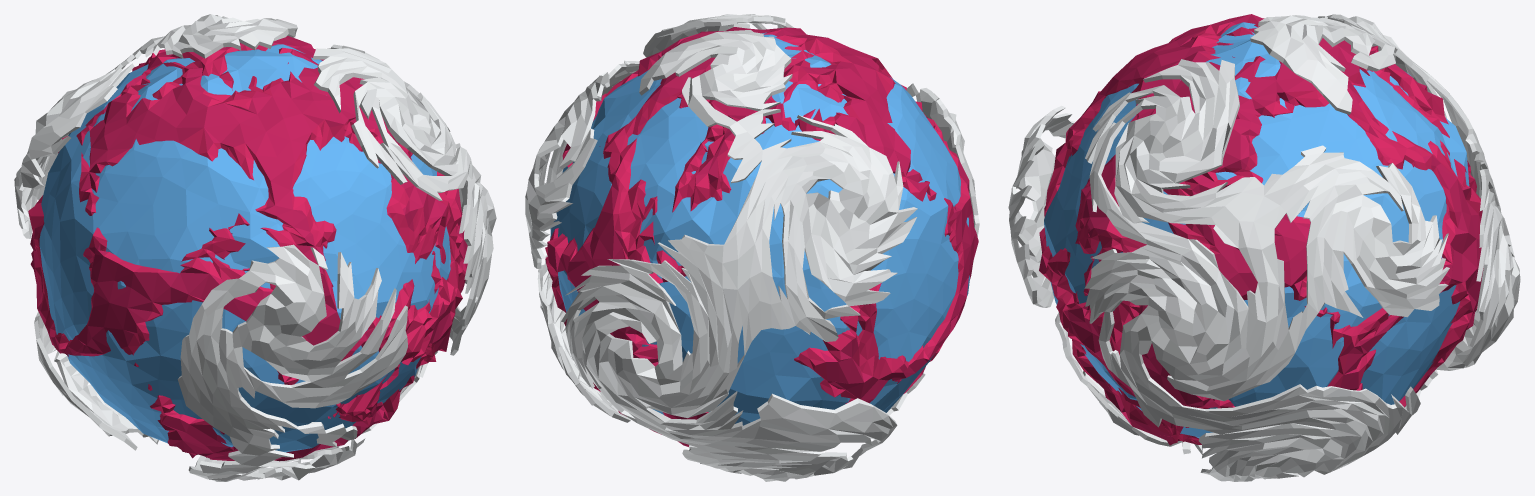
Rendered from Planet_12.glb.
The picture shows the model from 3 angles, left to right: view 1: azimuth 30°, elevation 25°; view 2: azimuth 150°, elevation 25°; view 3: azimuth 270°, elevation 25°; orthographic projection. The views are drawn at different scales.
Visible parts, largest first — view 1: Planet_12; view 2: Planet_12; view 3: Planet_12.
Boxes of the visible parts, x1,y1,x2,y2 form: Planet_12: (14, 14, 496, 481); Planet_12: (525, 14, 979, 481); Planet_12: (1008, 14, 1520, 481).
Bounding box in the file's own units: 21.17 × 21.6 × 23.29.
1 material, 1 textured.
